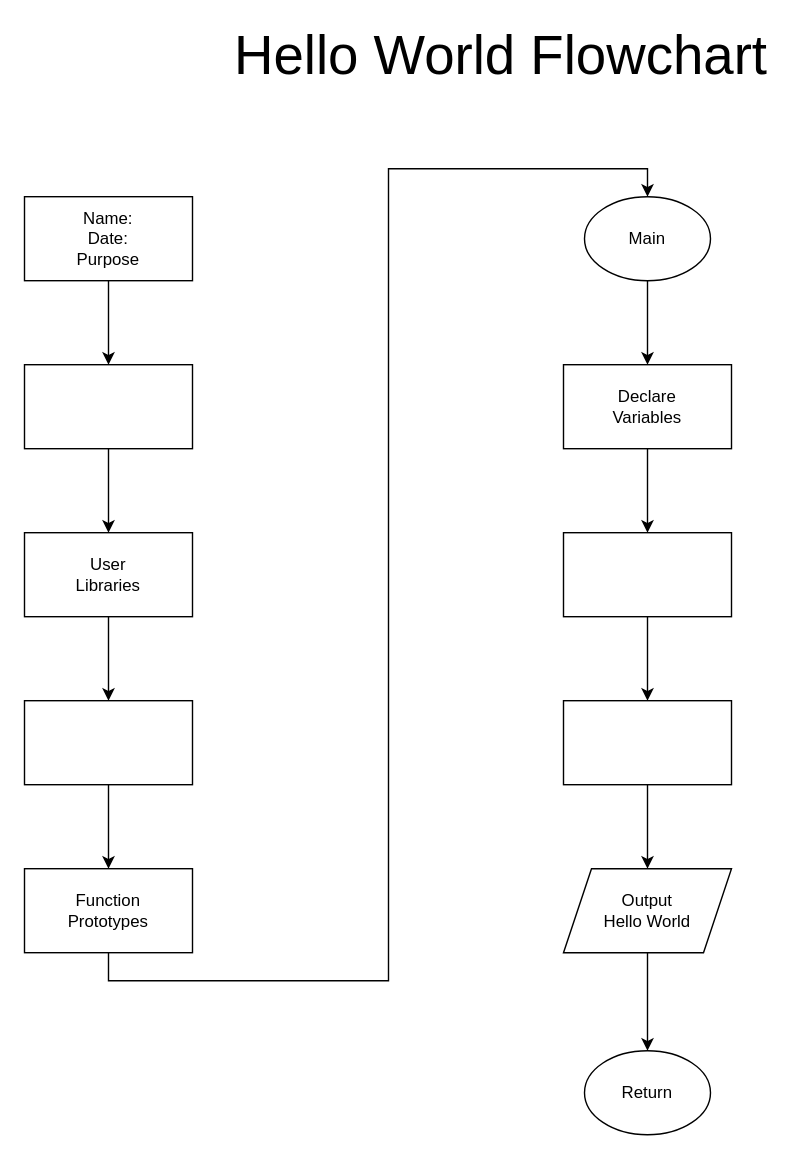
Some shapes in this 805 by 1159 pixel diagram are drawn without their labels. Here are the shapes that lost their labels. From the top down, the centre of each, then its label:
At [107,406]: "System Libraries iostream".
At [647,574]: "Initialize Variables".
At [107,742]: "Global Constants".
At [647,742]: "Map Inputs to outputs".
